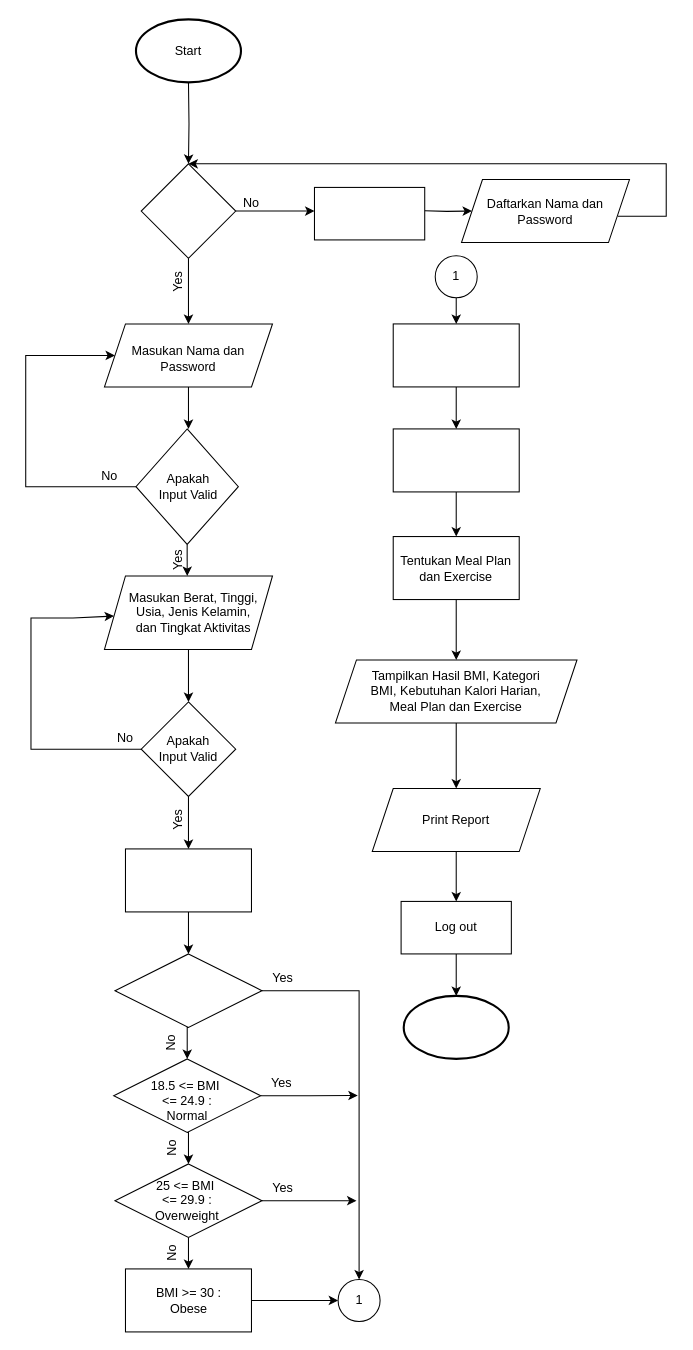
Some shapes in this 693 by 1350 pixel diagram are drawn without their labels. Here are the shapes that lost their labels. From the top down, the box of each, then its label:
(140, 163, 236, 258): Sign in
(313, 186, 425, 240): Sign up
(392, 323, 519, 387): Tentukan Kategori BMI
(392, 428, 519, 492): Hitung Kebutuhan Kalori Harian (BMR + Aktivitas)
(124, 848, 251, 912): Hitung BMI ( BMI = Berat / Tinggi 2
(114, 953, 262, 1027): BMI < 18.5 : Underweight
(402, 994, 509, 1059): End
